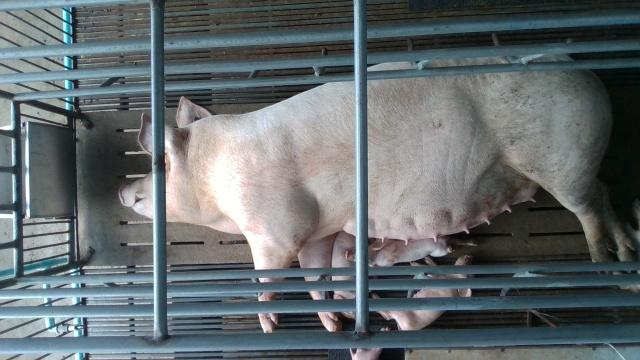piglet: (370, 254, 475, 330), (345, 238, 456, 266), (332, 232, 355, 320)
sow-sleep-lactate: (119, 52, 640, 333)
